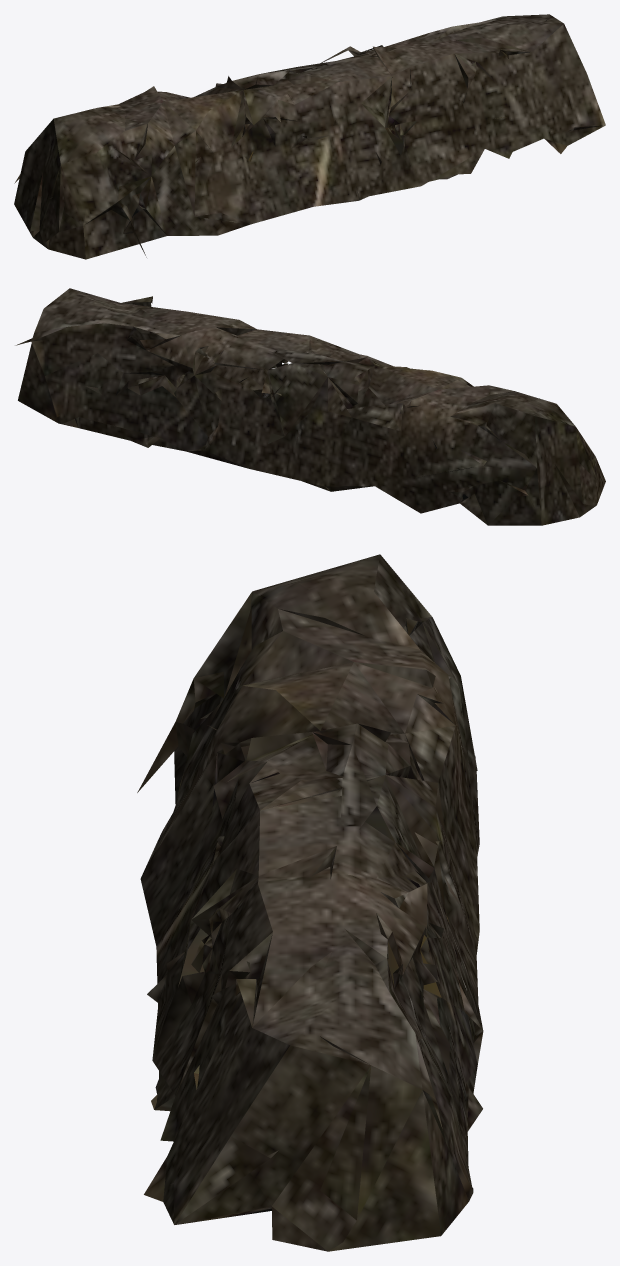
File: beaver-dam-lod1.glb
The picture shows the model from 3 angles, top to bottom: view 1: azimuth 30°, elevation 25°; view 2: azimuth 150°, elevation 25°; view 3: azimuth 270°, elevation 25°; orthographic projection. The views are drawn at different scales.
Visible parts, largest first — view 1: beaver-dam-lod1; view 2: beaver-dam-lod1; view 3: beaver-dam-lod1.
Boxes of the visible parts, <box> form: beaver-dam-lod1: <box>14,14,605,259</box>; beaver-dam-lod1: <box>15,288,605,525</box>; beaver-dam-lod1: <box>137,554,483,1251</box>.
Bounding box in the file's own units: 8.5 × 1.6 × 2.33.
Materials: 1 (1 with a texture image).
